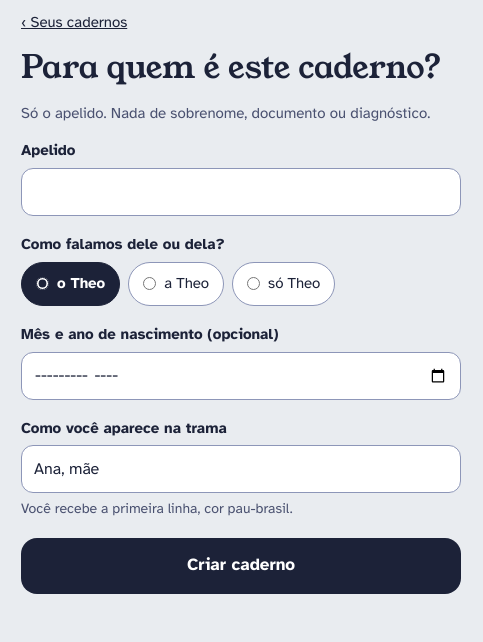
apelido é obrigatório
Click the button "Criar caderno". click: (241, 566)
box: 21,538 -> 461,594
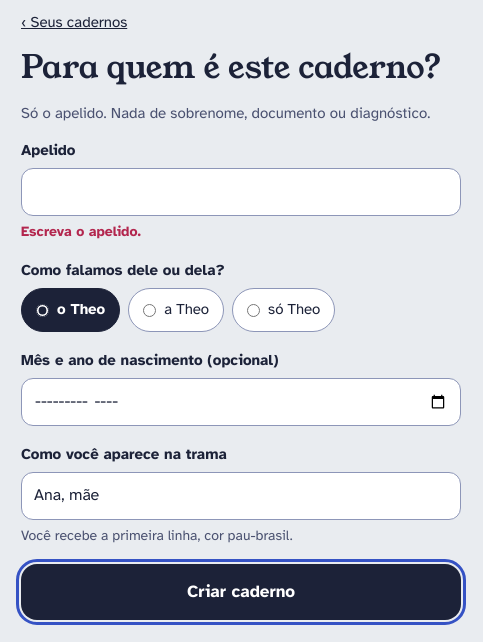
Check: the text "Escreva o apelido." is shown, box 21,223 -> 141,240
